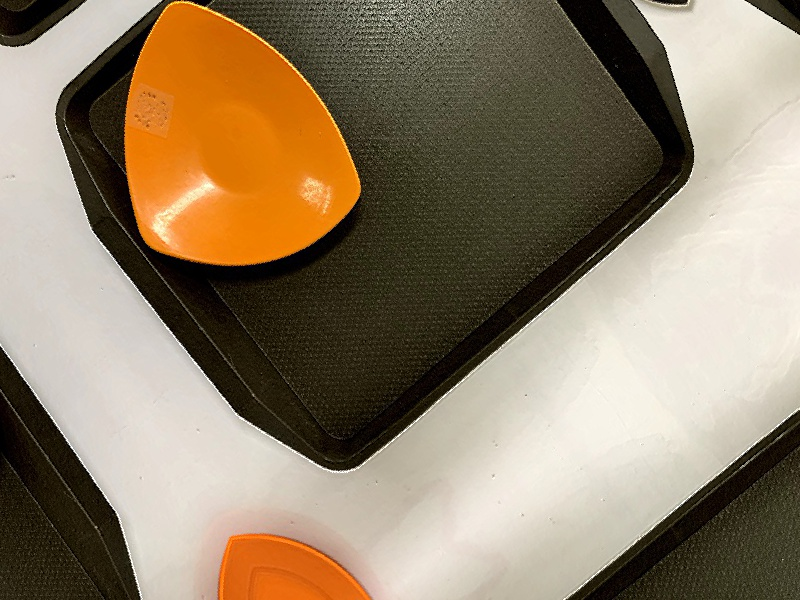dish11: (38, 0, 393, 342)
